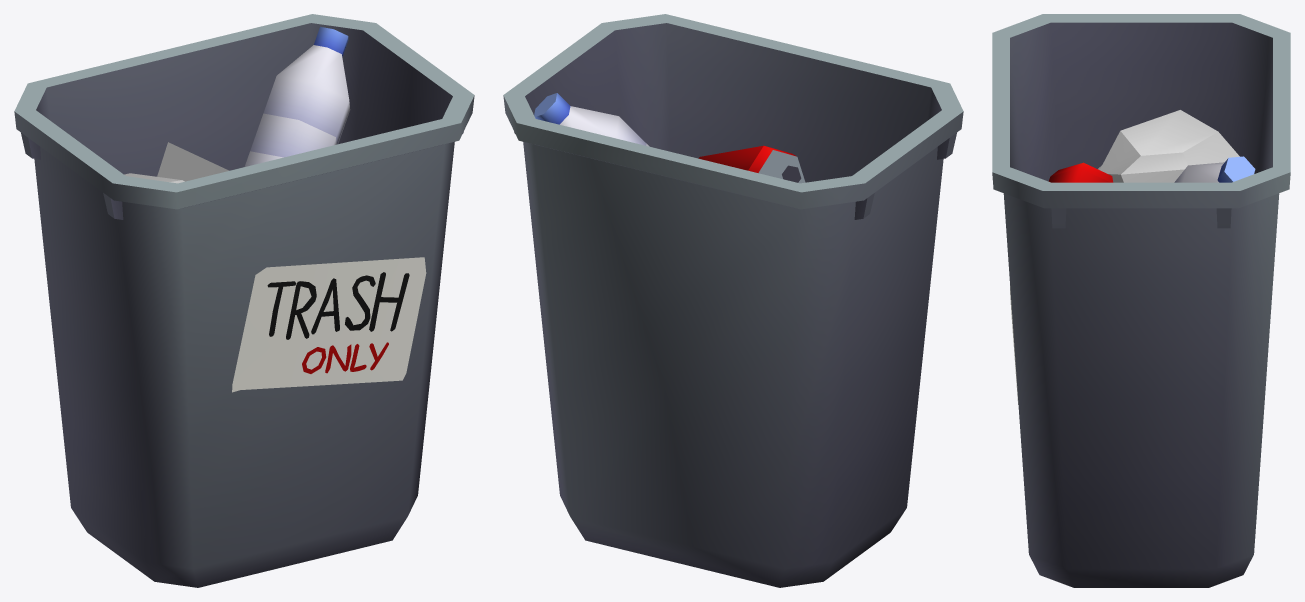
Rendered from CR_TrashCan.FBX.
3 renders of one model, left to right at view 1: azimuth 30°, elevation 25°; view 2: azimuth 150°, elevation 25°; view 3: azimuth 270°, elevation 25°, orthographic.
Parts seen in each view (by area): view 1: CR_TrashCan; view 2: CR_TrashCan; view 3: CR_TrashCan.
Part boxes in pixels (x1,y1,x2,y2): CR_TrashCan: [14, 14, 474, 587]; CR_TrashCan: [503, 14, 963, 587]; CR_TrashCan: [992, 14, 1290, 587].
Size of the model in its own units: 13.4 by 15.34 by 9.55.
